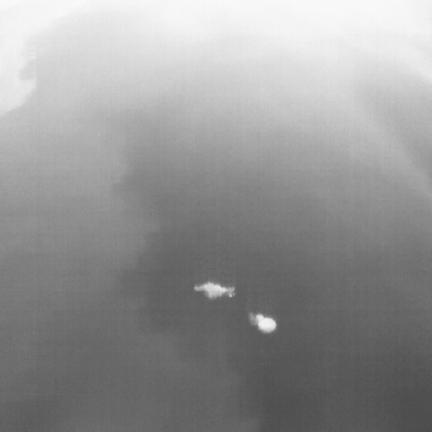flukeprints: (194, 282, 235, 299), (250, 314, 276, 332)
